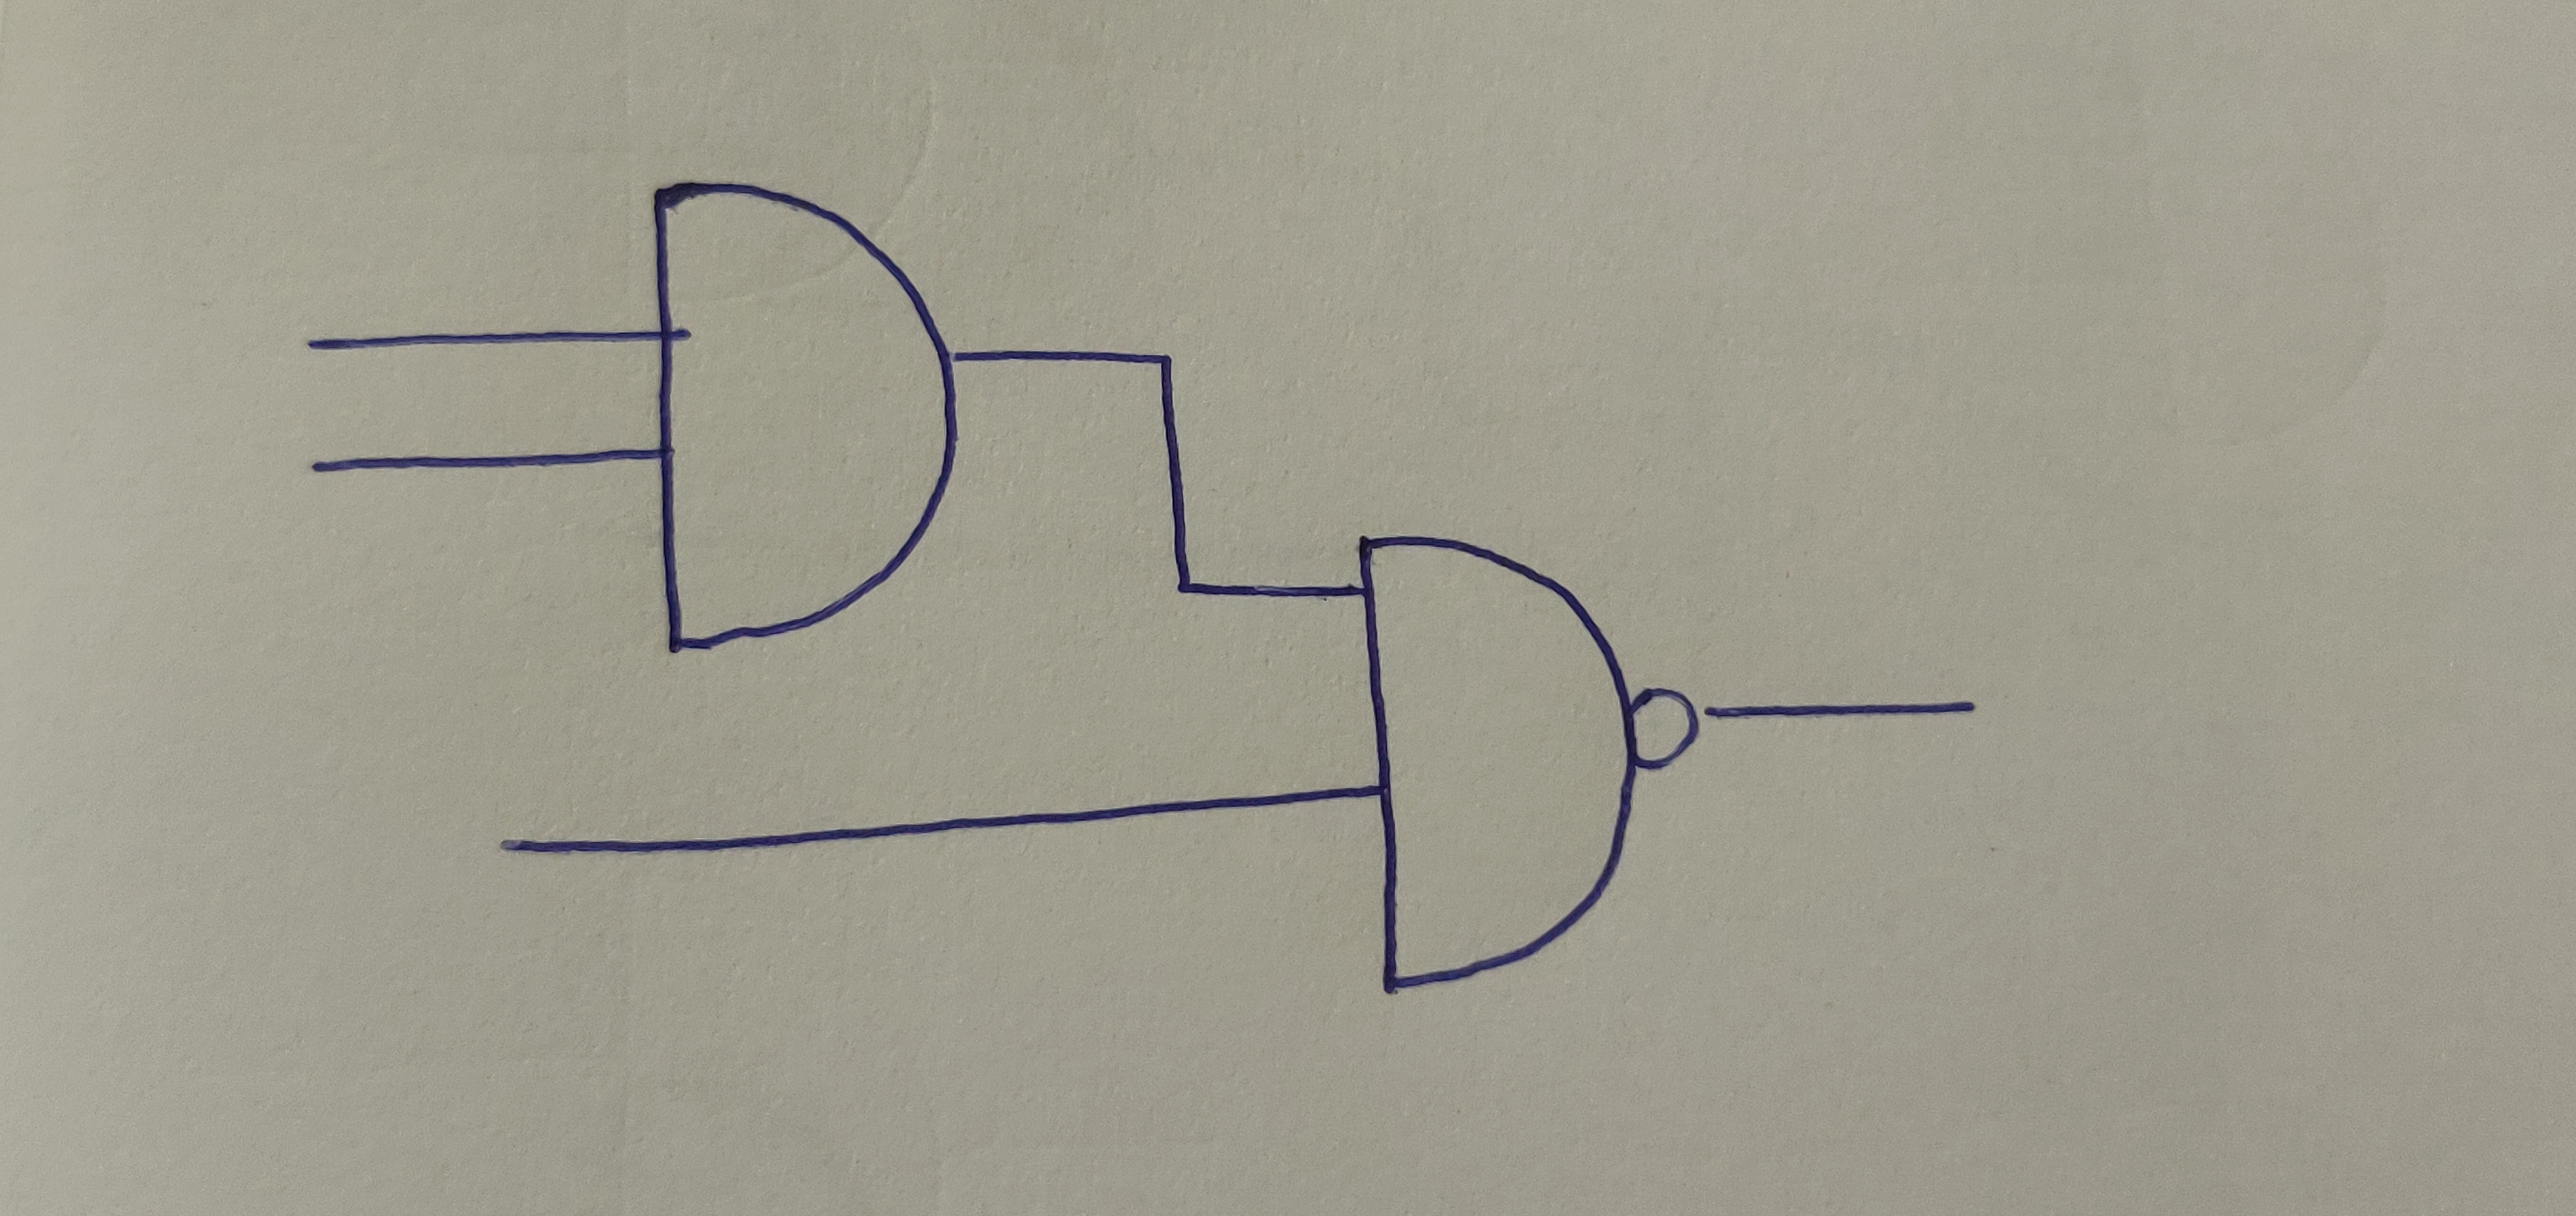and: (656, 177, 956, 656), (1342, 532, 1638, 991)
not: (1625, 680, 1702, 771)
